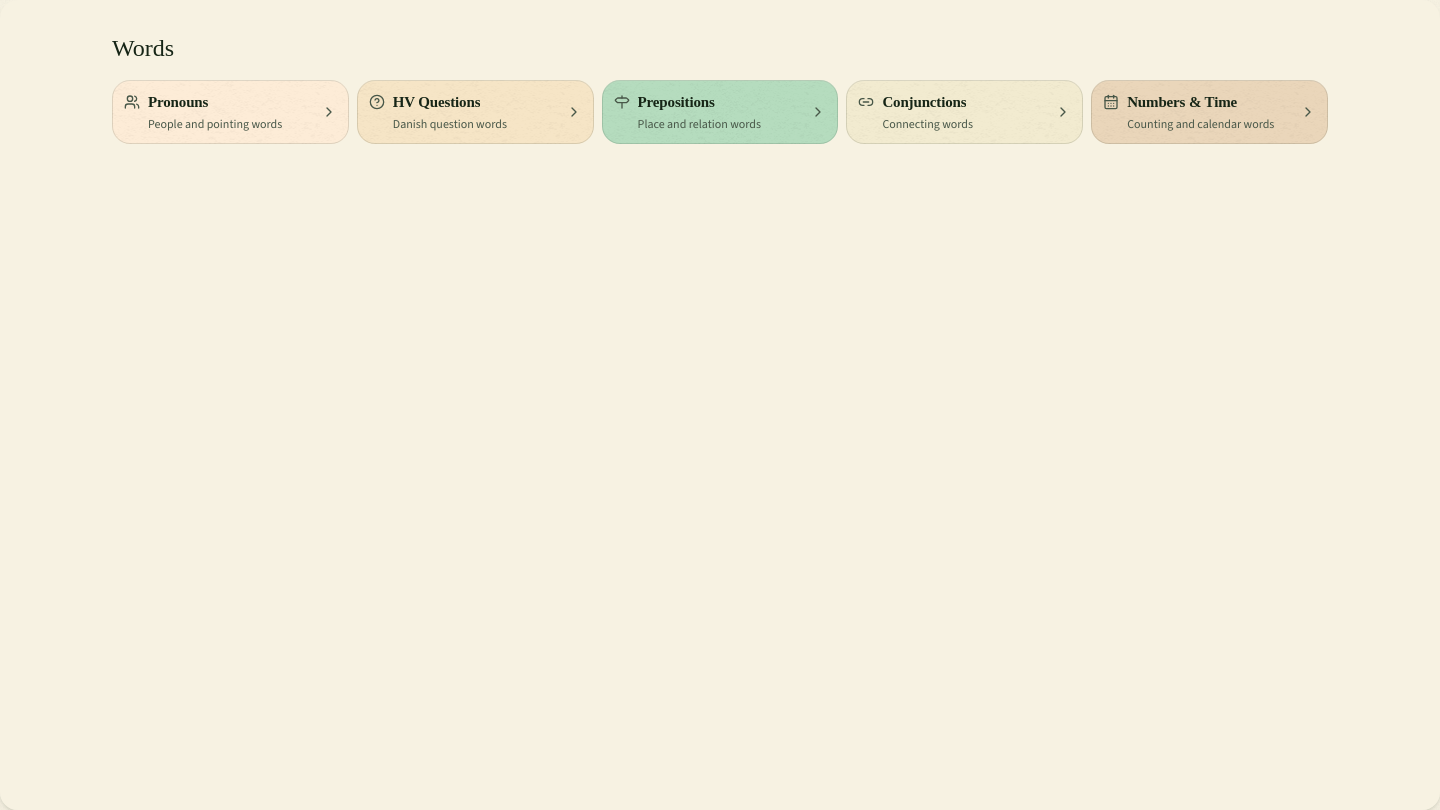
Scenario: App wordbank pinned pages › no longer renders a question_words tab on the Pronouns page
What coordinates should you click on to do the following:
click the button with aria-label "open pronouns reference"
I would click on:
 (230, 112)
Its box is 112,80 -> 349,144.
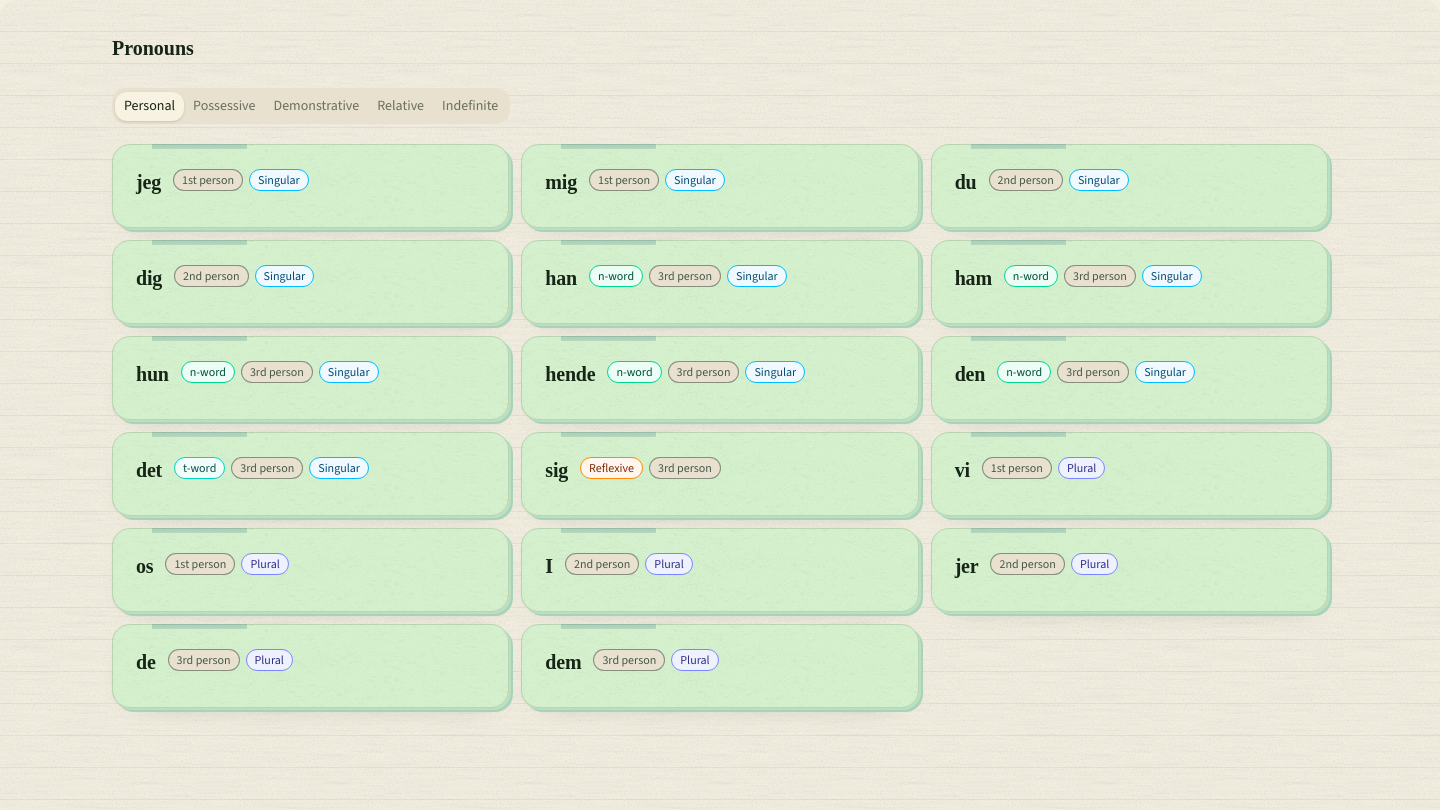
Check: the heading "Pronouns" is shown, box 112,37 -> 194,59
Check: the button "question words" is gone
